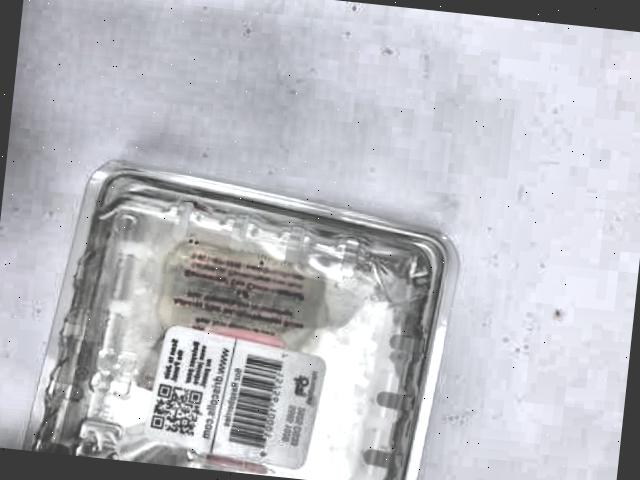Plastic: (29, 148, 460, 480)
